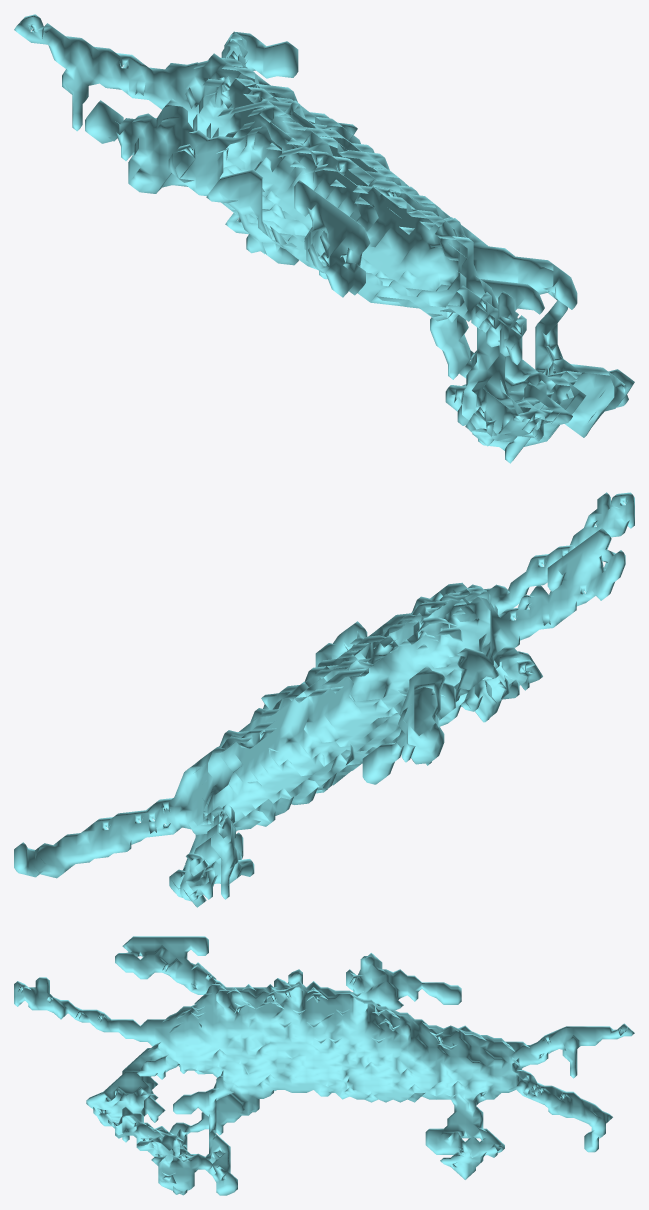
File: osteocyte_10.glb
3 views of the same model, one above another, from view 1: azimuth 30°, elevation 25°; view 2: azimuth 150°, elevation 25°; view 3: azimuth 270°, elevation 25° (orthographic). The views are drawn at different scales.
Visible parts, largest first — view 1: osteocyte_10; view 2: osteocyte_10; view 3: osteocyte_10.
Part boxes in pixels (x1,y1,x2,y2): osteocyte_10: (14, 14, 634, 463); osteocyte_10: (14, 492, 634, 907); osteocyte_10: (14, 936, 634, 1195).
Size of the model in its own units: 15.41 by 13 by 41.41.
